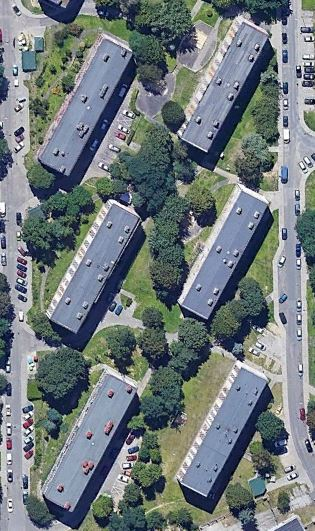block of flats: (40, 365, 140, 517), (42, 196, 145, 339), (38, 32, 134, 179), (173, 11, 272, 153), (175, 178, 271, 323), (173, 357, 270, 498)
